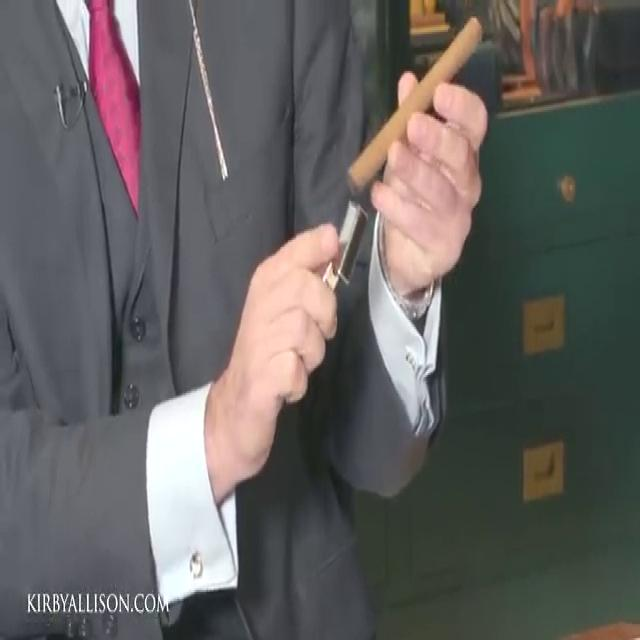Smooking: (348, 6, 506, 211)
